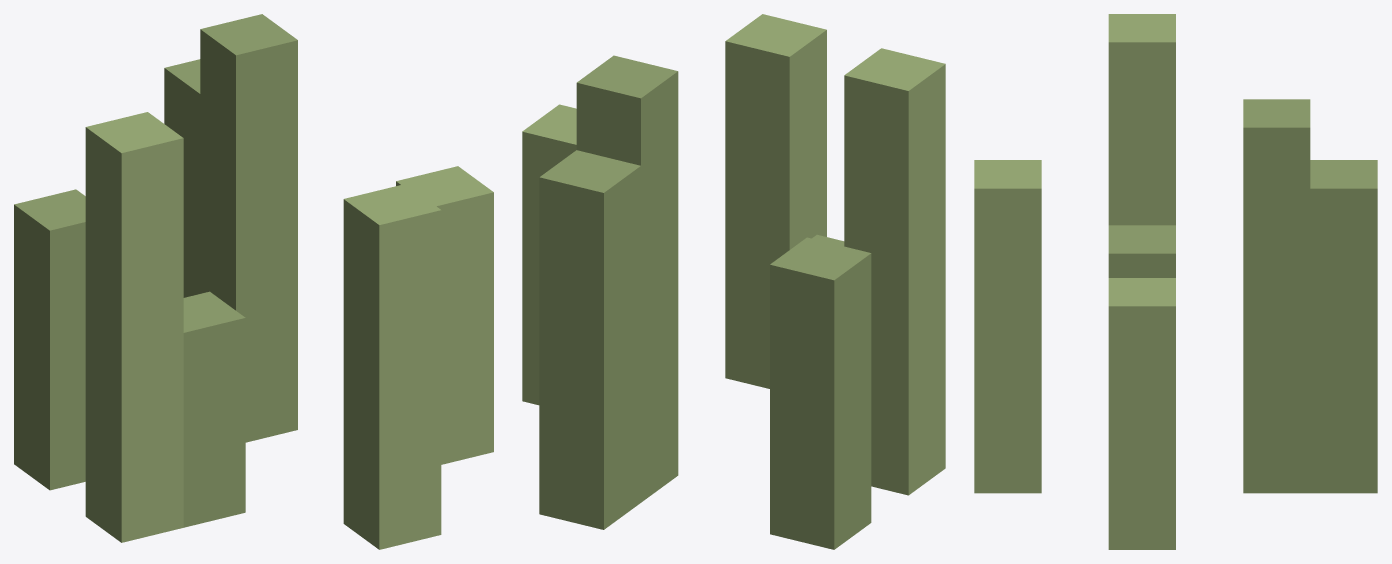
File: junco_04.glb
3 views of the same model, side by side, from view 1: azimuth 30°, elevation 25°; view 2: azimuth 150°, elevation 25°; view 3: azimuth 270°, elevation 25° (orthographic). The views are drawn at different scales.
Visible parts, largest first — view 1: junco_04; view 2: junco_04; view 3: junco_04.
Part boxes in pixels (x1,y1,x2,y2): junco_04: (14,14,493,549); junco_04: (522,14,945,549); junco_04: (974,14,1377,549).
Bounding box in the file's own units: 0.6 × 0.6 × 0.6.
